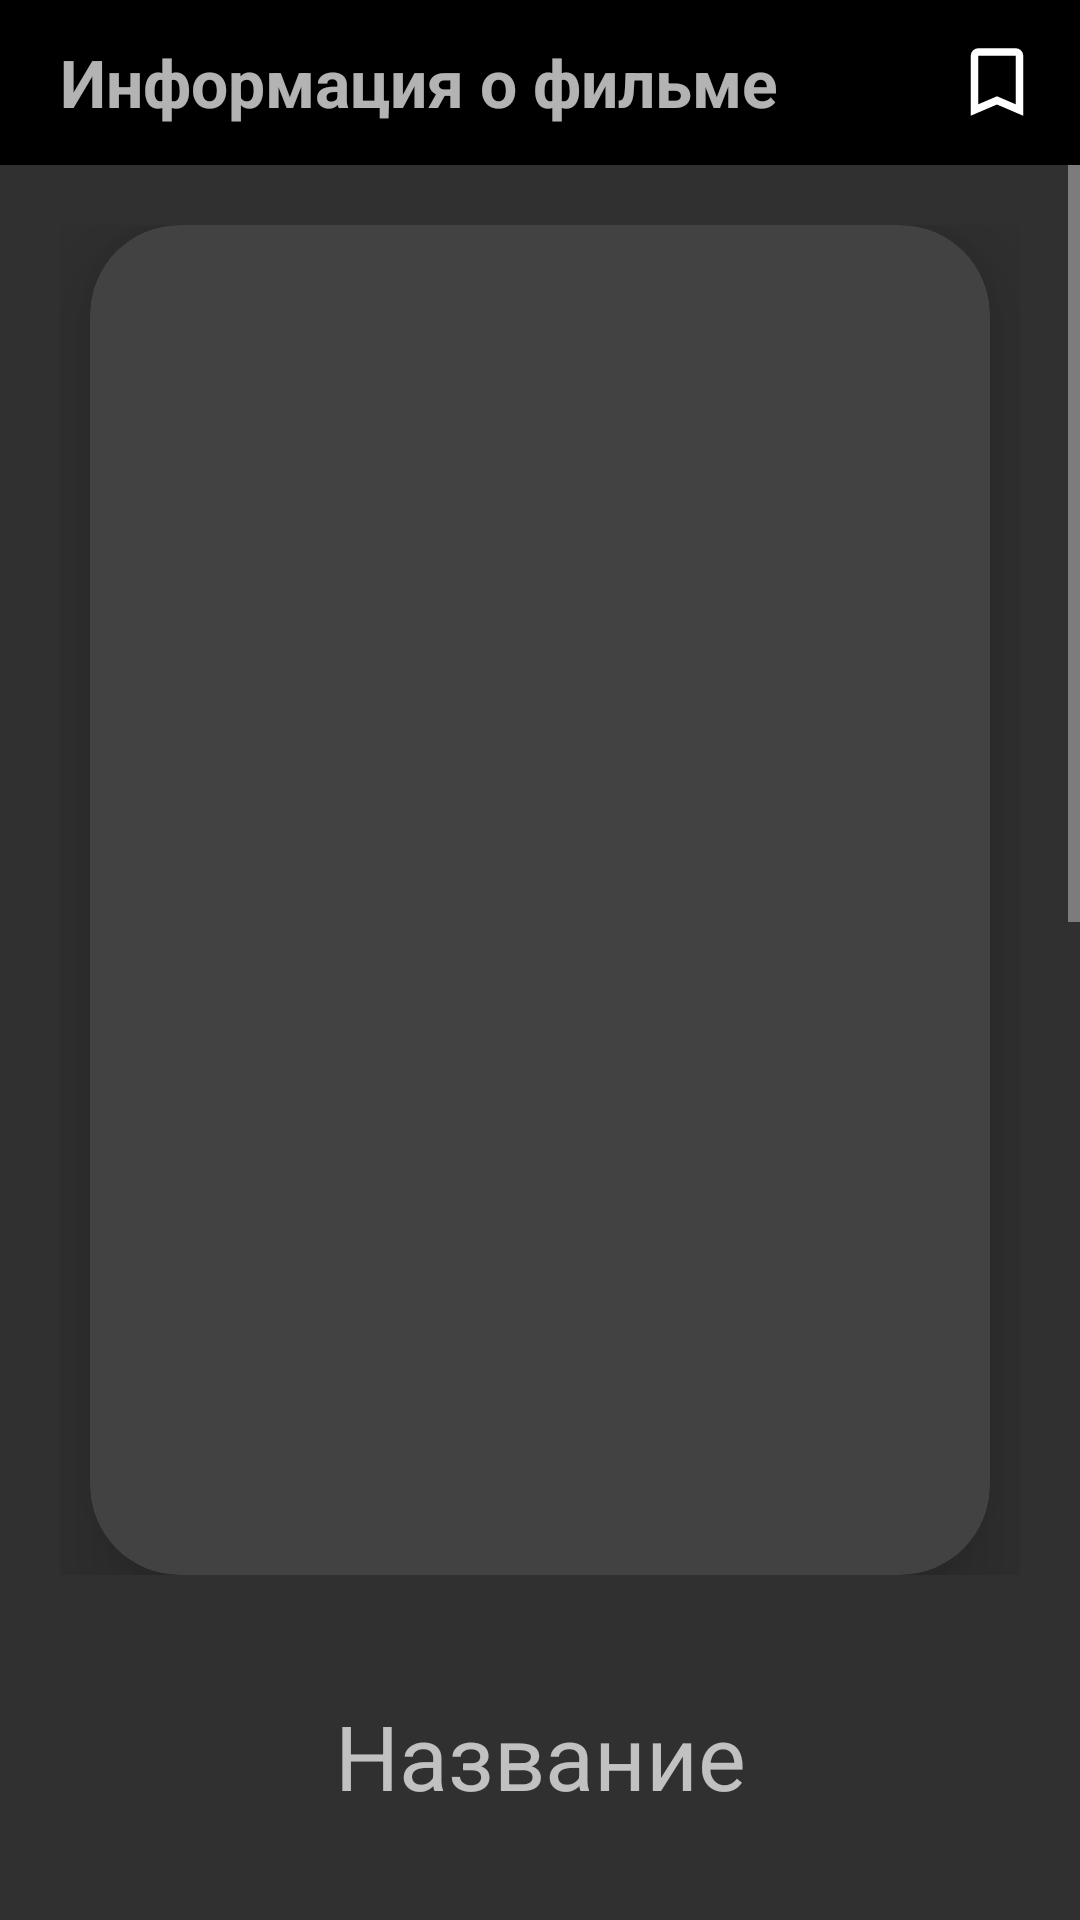

Point at icon controls on the screen. Image size 1080 × 1920, points as (x,y).
bookmark: (997,82)
